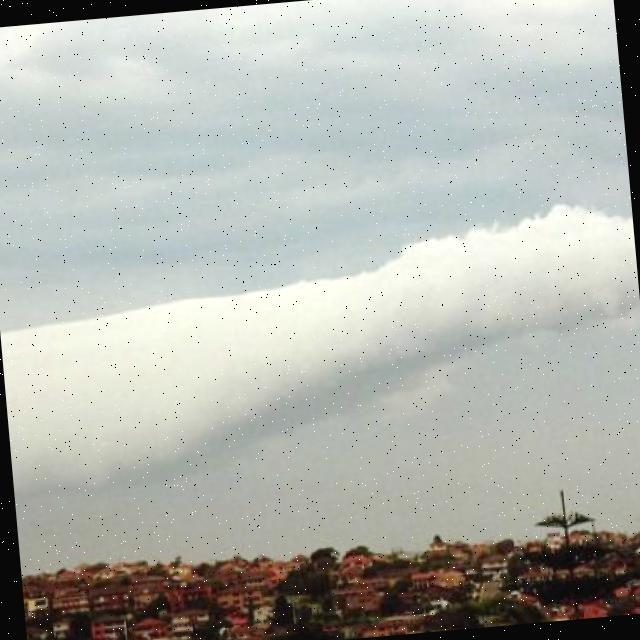Sc: (1, 94, 640, 507)
